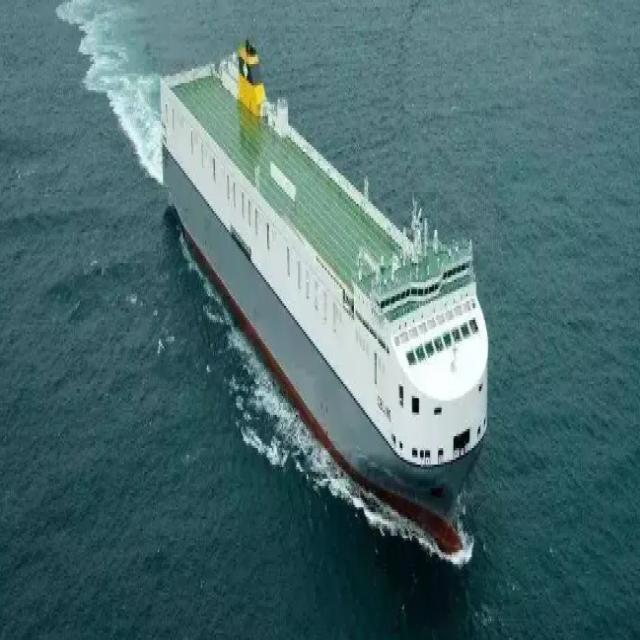cargoship: (156, 37, 497, 561)
